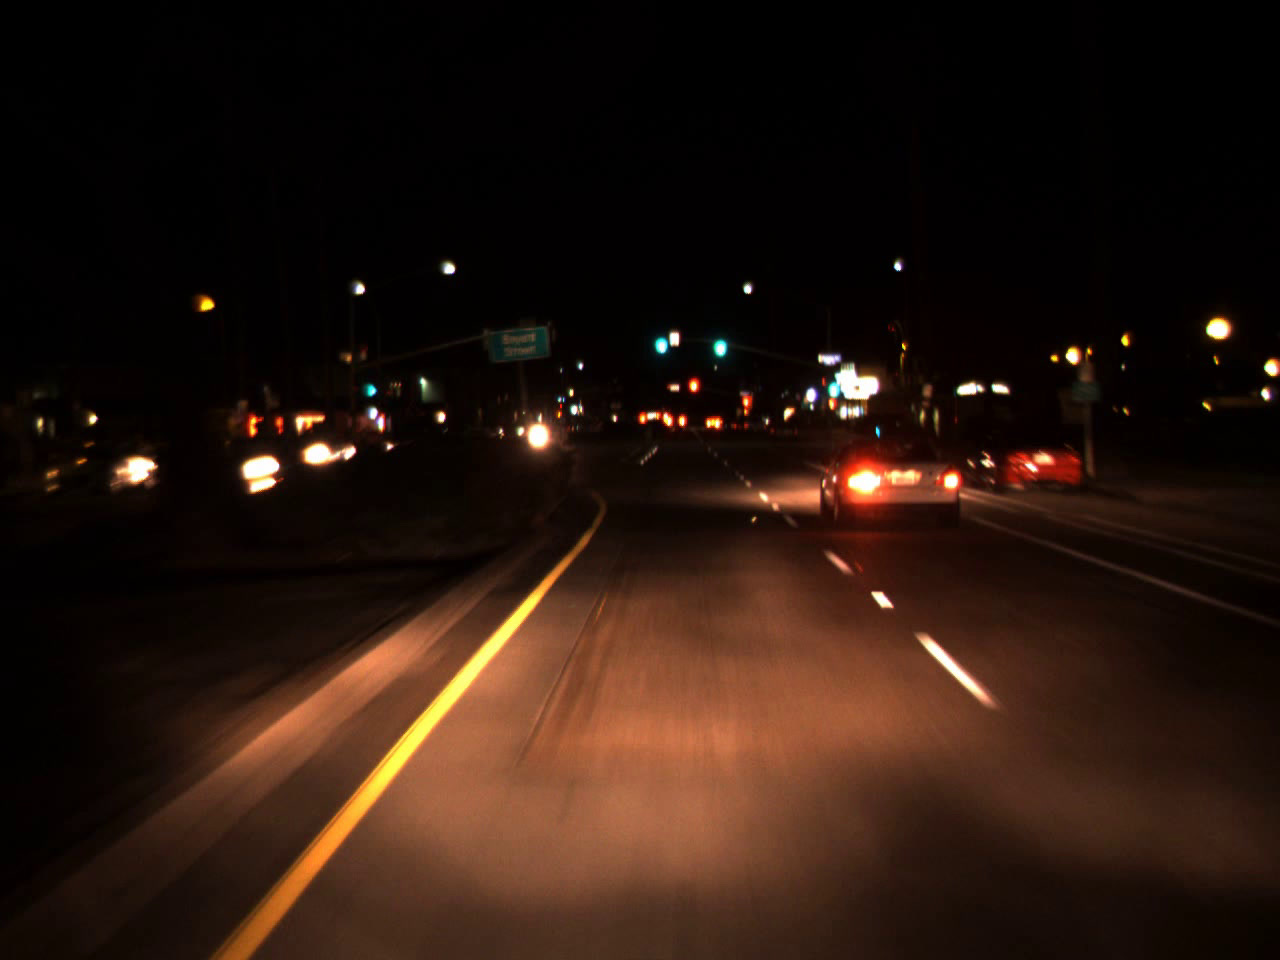go: (708, 318, 729, 363), (650, 319, 669, 358), (823, 370, 842, 400), (364, 371, 376, 401)
stop: (686, 375, 701, 410), (740, 393, 753, 425)
